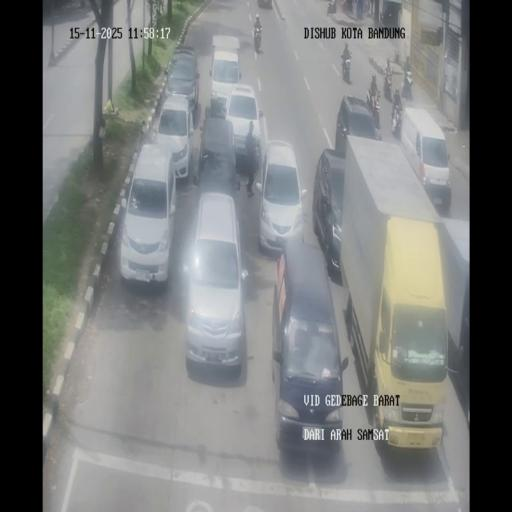car: (273, 239, 345, 454), (184, 192, 248, 370), (120, 144, 178, 286), (257, 138, 306, 256), (400, 107, 450, 206), (314, 149, 346, 278), (154, 94, 194, 180), (224, 83, 262, 166), (336, 94, 381, 150)
motorcycle: (402, 68, 414, 100), (391, 109, 403, 138), (383, 69, 393, 102), (341, 50, 351, 82), (366, 86, 374, 115), (254, 25, 262, 53), (373, 100, 380, 129), (383, 6, 394, 24), (326, 0, 336, 15), (342, 0, 352, 13), (404, 55, 410, 74), (363, 0, 369, 17), (380, 10, 384, 23)
truck: (338, 136, 462, 449)
